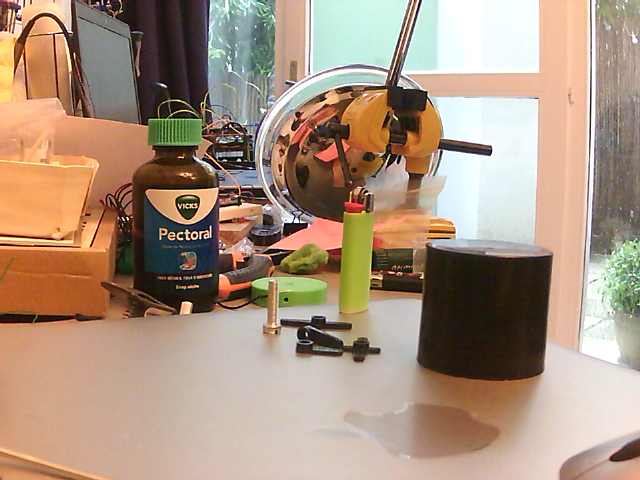bolt: (264, 276, 282, 337)
lighter: (339, 185, 375, 316)
